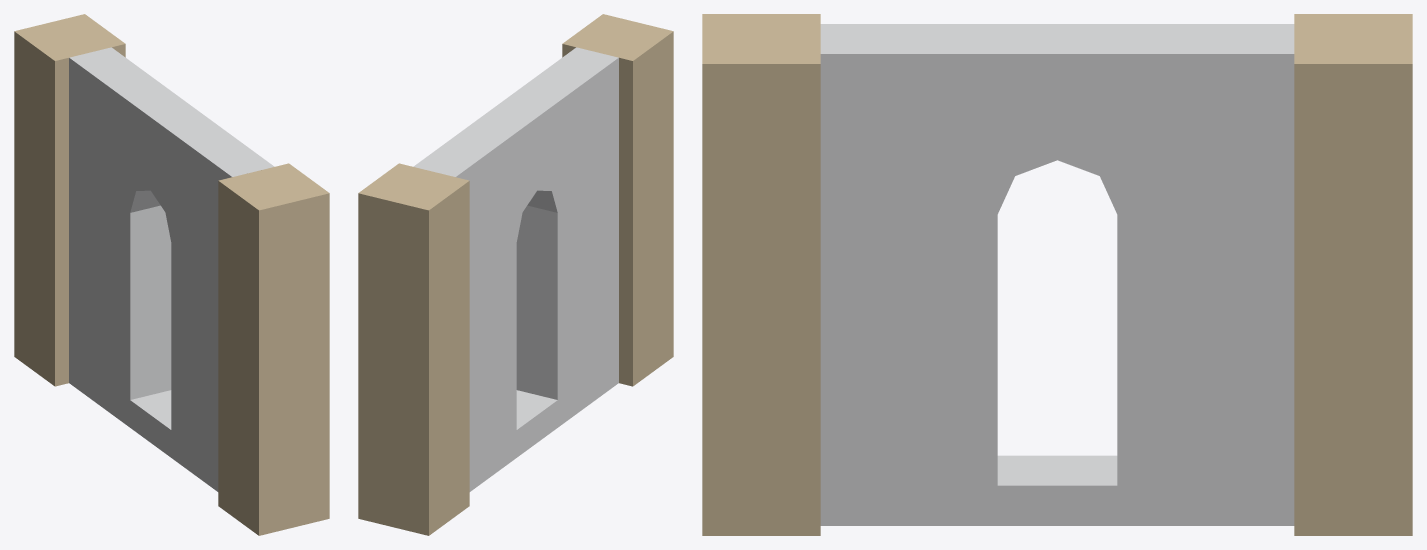
Rendered from Wood_Window_Round_Long_01.glb.
3 renders of one model, left to right at view 1: azimuth 30°, elevation 25°; view 2: azimuth 150°, elevation 25°; view 3: azimuth 270°, elevation 25°, orthographic. The views are drawn at different scales.
Parts seen in each view (by area): view 1: Wood_Window_Round_Long_01; view 2: Wood_Window_Round_Long_01; view 3: Wood_Window_Round_Long_01.
Boxes of the visible parts, bbox=[...] form: Wood_Window_Round_Long_01: bbox=[14, 14, 329, 535]; Wood_Window_Round_Long_01: bbox=[358, 14, 673, 535]; Wood_Window_Round_Long_01: bbox=[702, 14, 1412, 535].
Size of the model in its own units: 0.5001 by 2.2 by 3.
